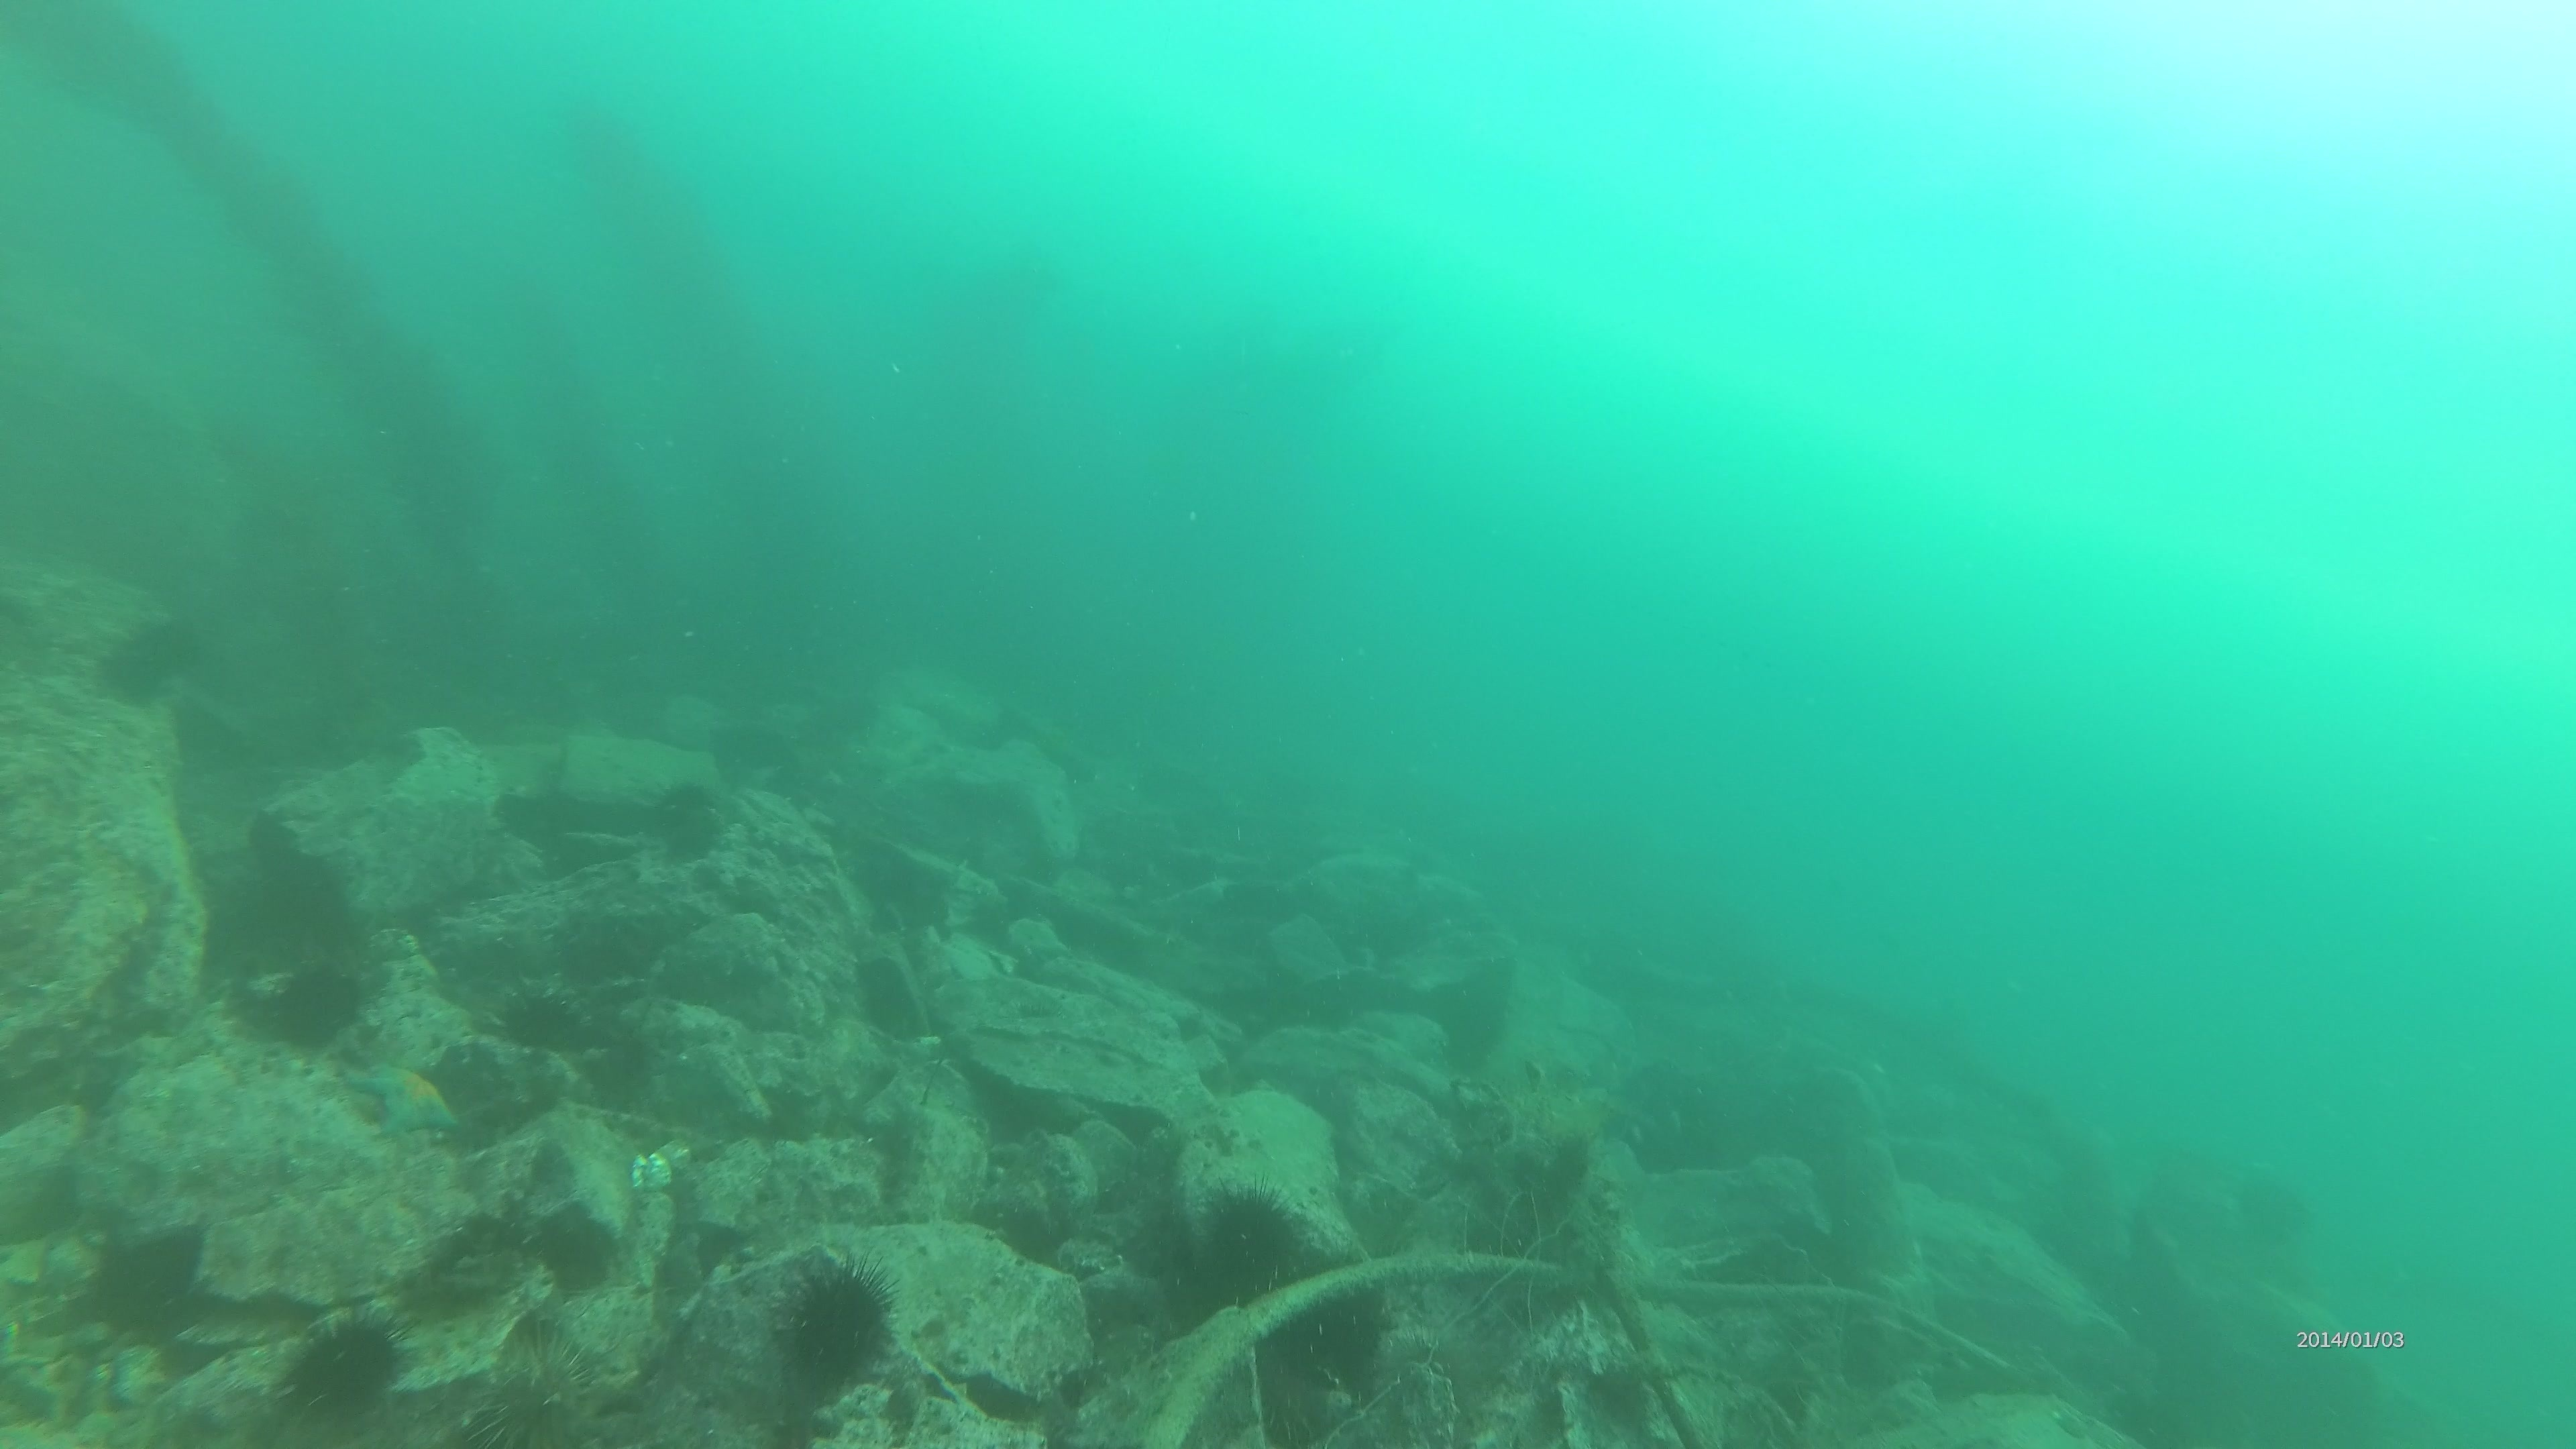echinus: (451, 1332, 628, 1445), (766, 1251, 904, 1396), (271, 1306, 414, 1430), (1185, 1180, 1313, 1309), (251, 952, 372, 1054), (90, 609, 205, 711), (522, 1198, 623, 1297), (640, 777, 734, 867), (492, 980, 589, 1058)
starfish: (345, 1049, 471, 1143)
